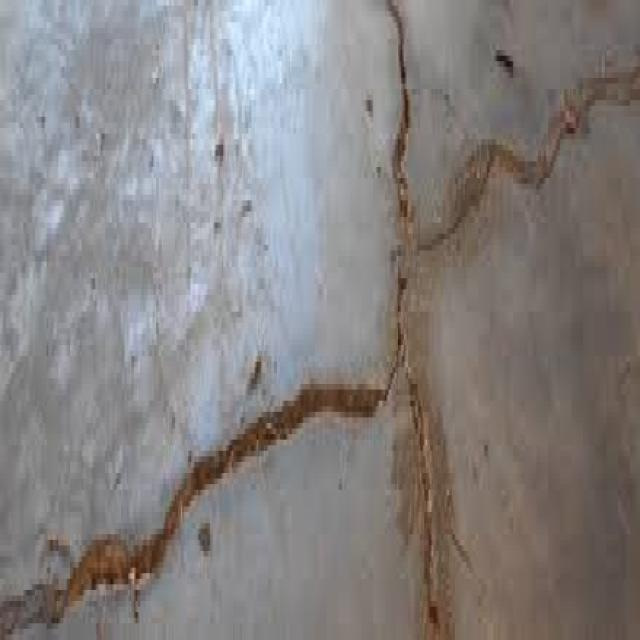Crack: (0, 328, 398, 634), (405, 56, 639, 267), (384, 0, 437, 634)
